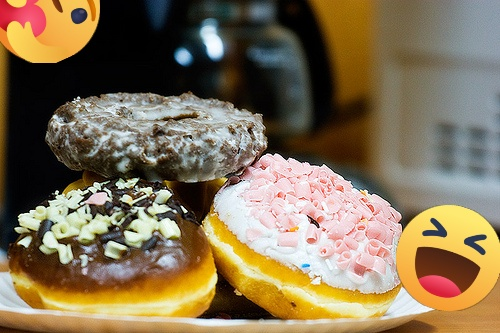care: (0, 0, 100, 63)
haha: (396, 205, 500, 311)
